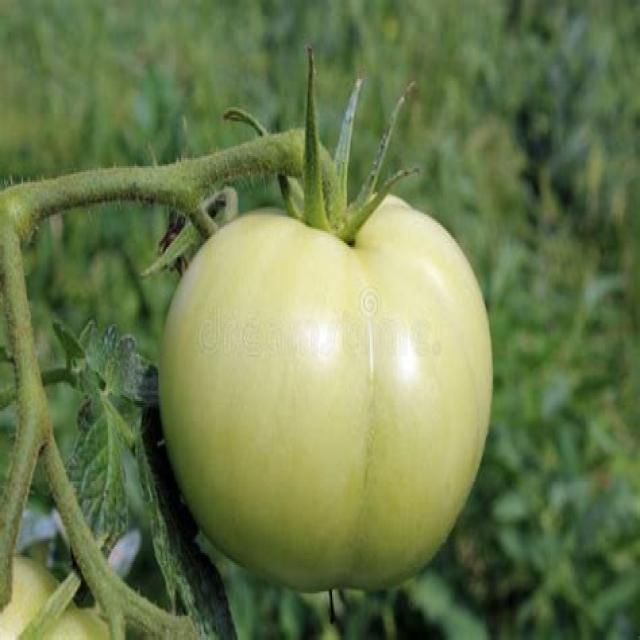Tomato: (156, 159, 492, 596)
